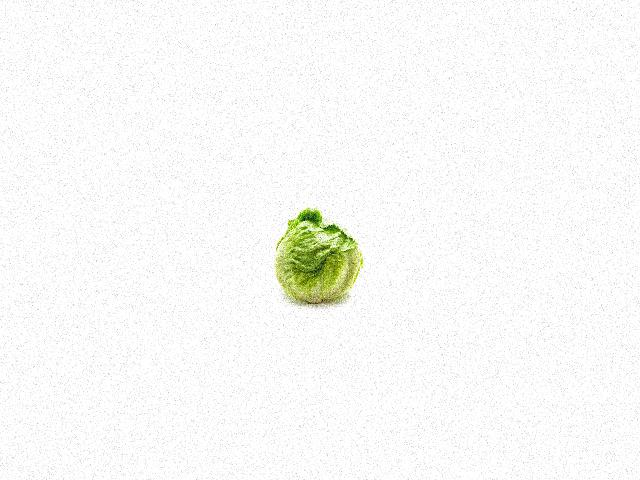lettuce: (271, 207, 370, 307)
